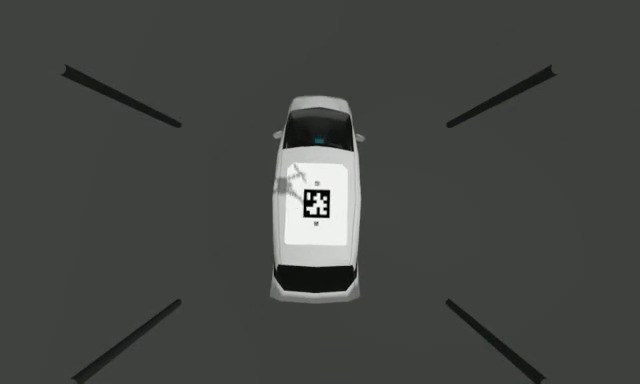Car: (274, 95, 363, 303)
Landing Pad: (287, 162, 348, 248)
